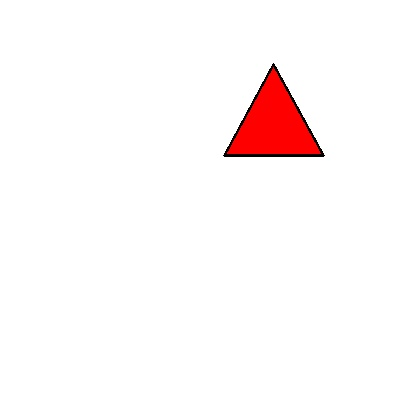triangle: (224, 64, 323, 155)
